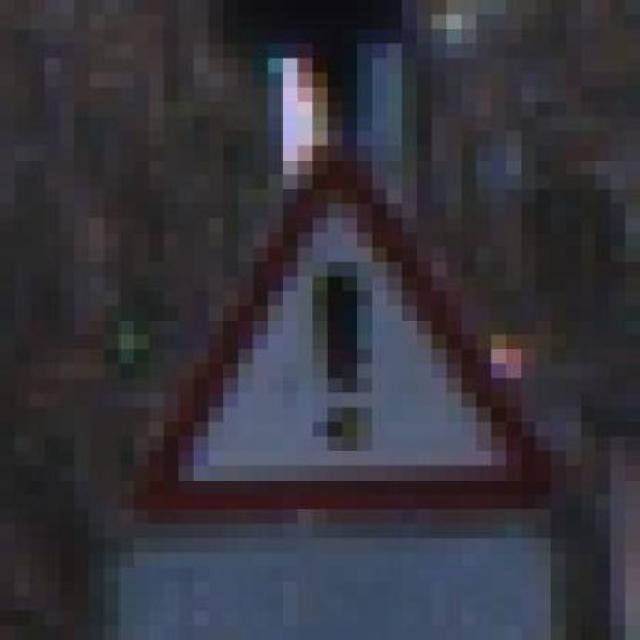Attention Please-: (104, 159, 565, 524)
